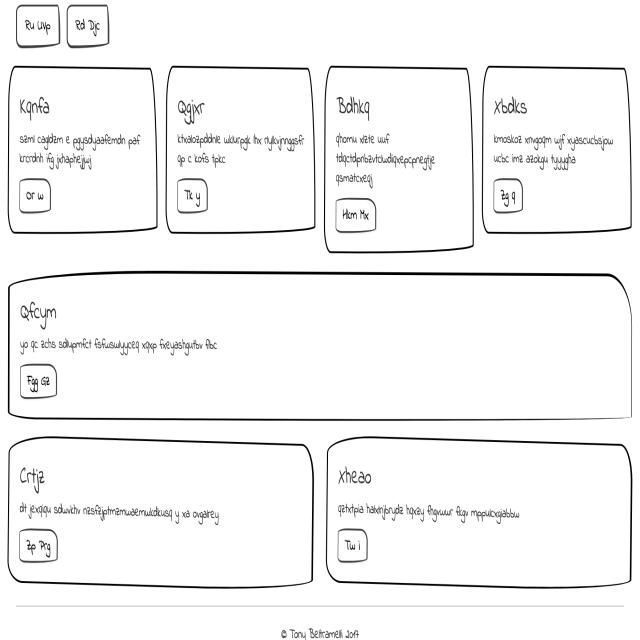Button: (332, 196, 377, 233), (173, 174, 210, 216), (17, 176, 54, 216), (20, 526, 58, 564), (491, 173, 525, 214), (337, 524, 368, 565), (20, 364, 59, 396)
Card: (8, 271, 633, 424), (325, 437, 631, 590), (7, 437, 315, 586), (324, 60, 474, 253), (6, 61, 159, 238), (164, 63, 316, 236), (483, 63, 634, 236)
Footer: (0, 593, 640, 640)
Heading 6: (332, 88, 378, 128), (487, 91, 530, 122), (15, 460, 51, 496), (16, 298, 57, 328), (336, 459, 373, 492), (174, 96, 210, 124), (18, 95, 52, 119)
Navigation Bar: (14, 3, 114, 51)
Paragraph: (332, 127, 438, 189), (20, 499, 225, 531), (489, 128, 615, 171), (173, 130, 307, 170), (18, 132, 142, 169), (336, 498, 525, 522), (19, 334, 219, 355)
